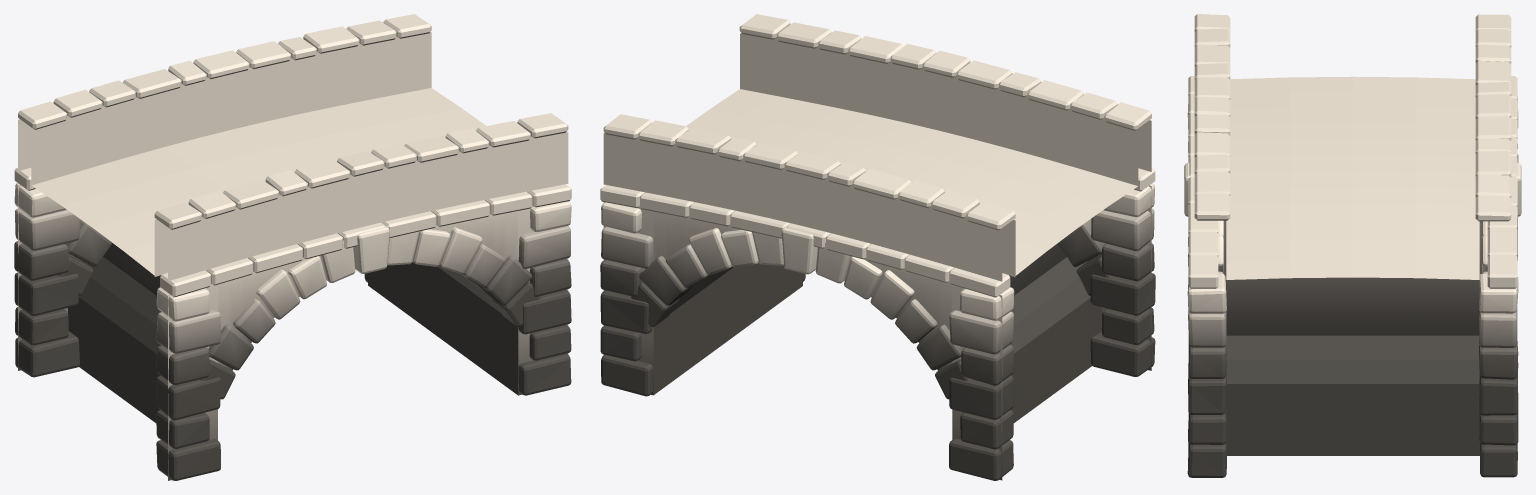
Rendered from SM_VK_Bridge_Stone_Span.fbx.
The picture shows the model from 3 angles, left to right: view 1: azimuth 30°, elevation 25°; view 2: azimuth 150°, elevation 25°; view 3: azimuth 270°, elevation 25°; orthographic projection. The views are drawn at different scales.
Visible parts, largest first — view 1: SM_VK_Bridge_Stone_Span.001; view 2: SM_VK_Bridge_Stone_Span.001; view 3: SM_VK_Bridge_Stone_Span.001.
Boxes of the visible parts, x1,y1,x2,y2 form: SM_VK_Bridge_Stone_Span.001: [14, 14, 571, 480]; SM_VK_Bridge_Stone_Span.001: [600, 14, 1155, 480]; SM_VK_Bridge_Stone_Span.001: [1184, 14, 1521, 477].
Size of the model in its own units: 6 by 3.86 by 4.26.
